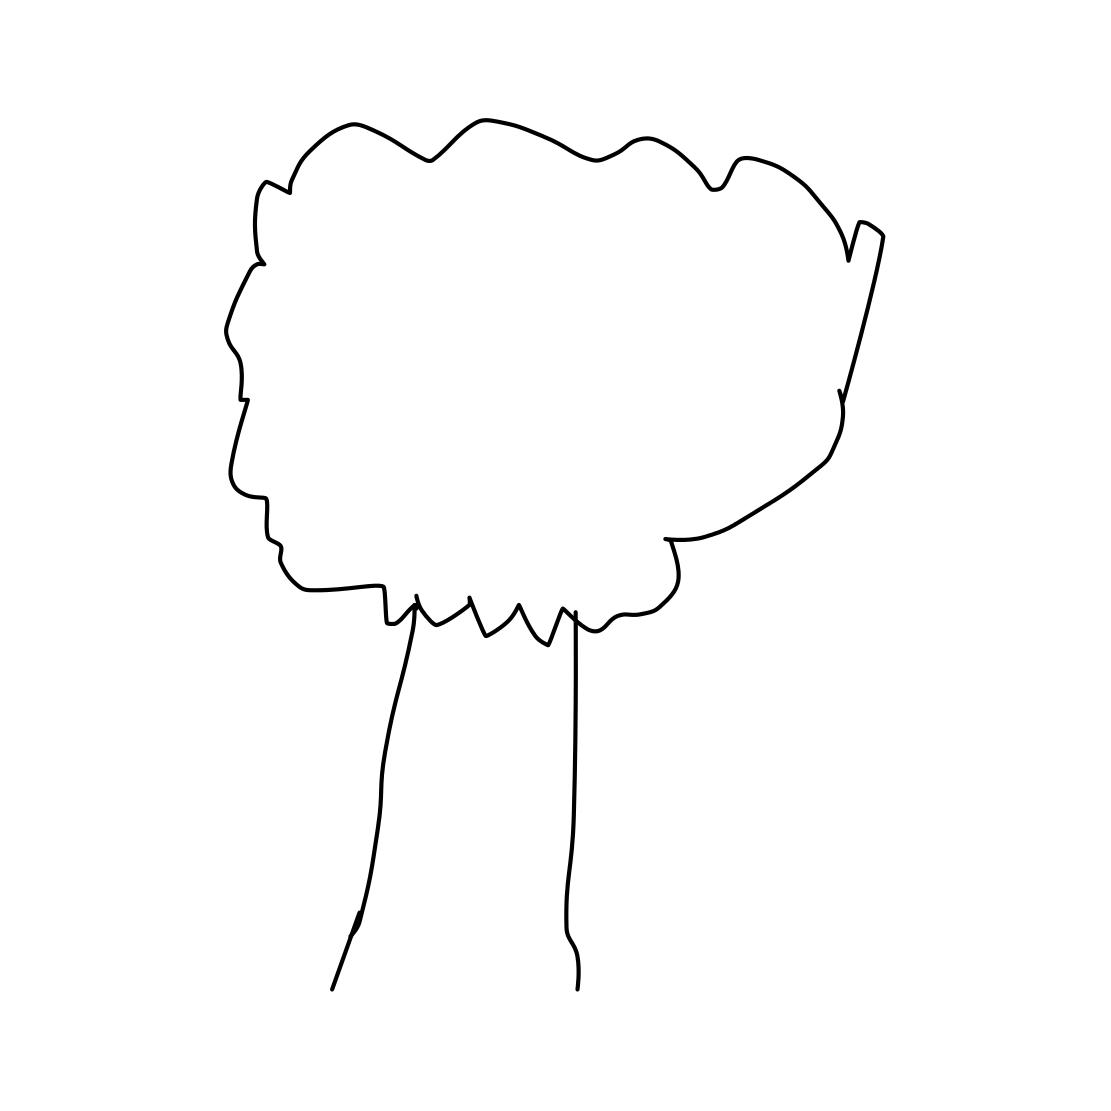Tree: (183, 65, 897, 1011)
